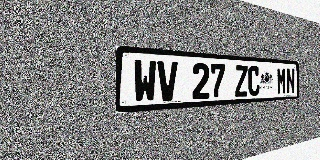2: (193, 63, 209, 100)
7: (210, 64, 225, 98)
C: (248, 66, 260, 96)
M: (277, 67, 286, 95)
N: (286, 68, 295, 94)
V: (157, 61, 178, 102)
W: (133, 59, 157, 103)
Z: (235, 65, 248, 97)
